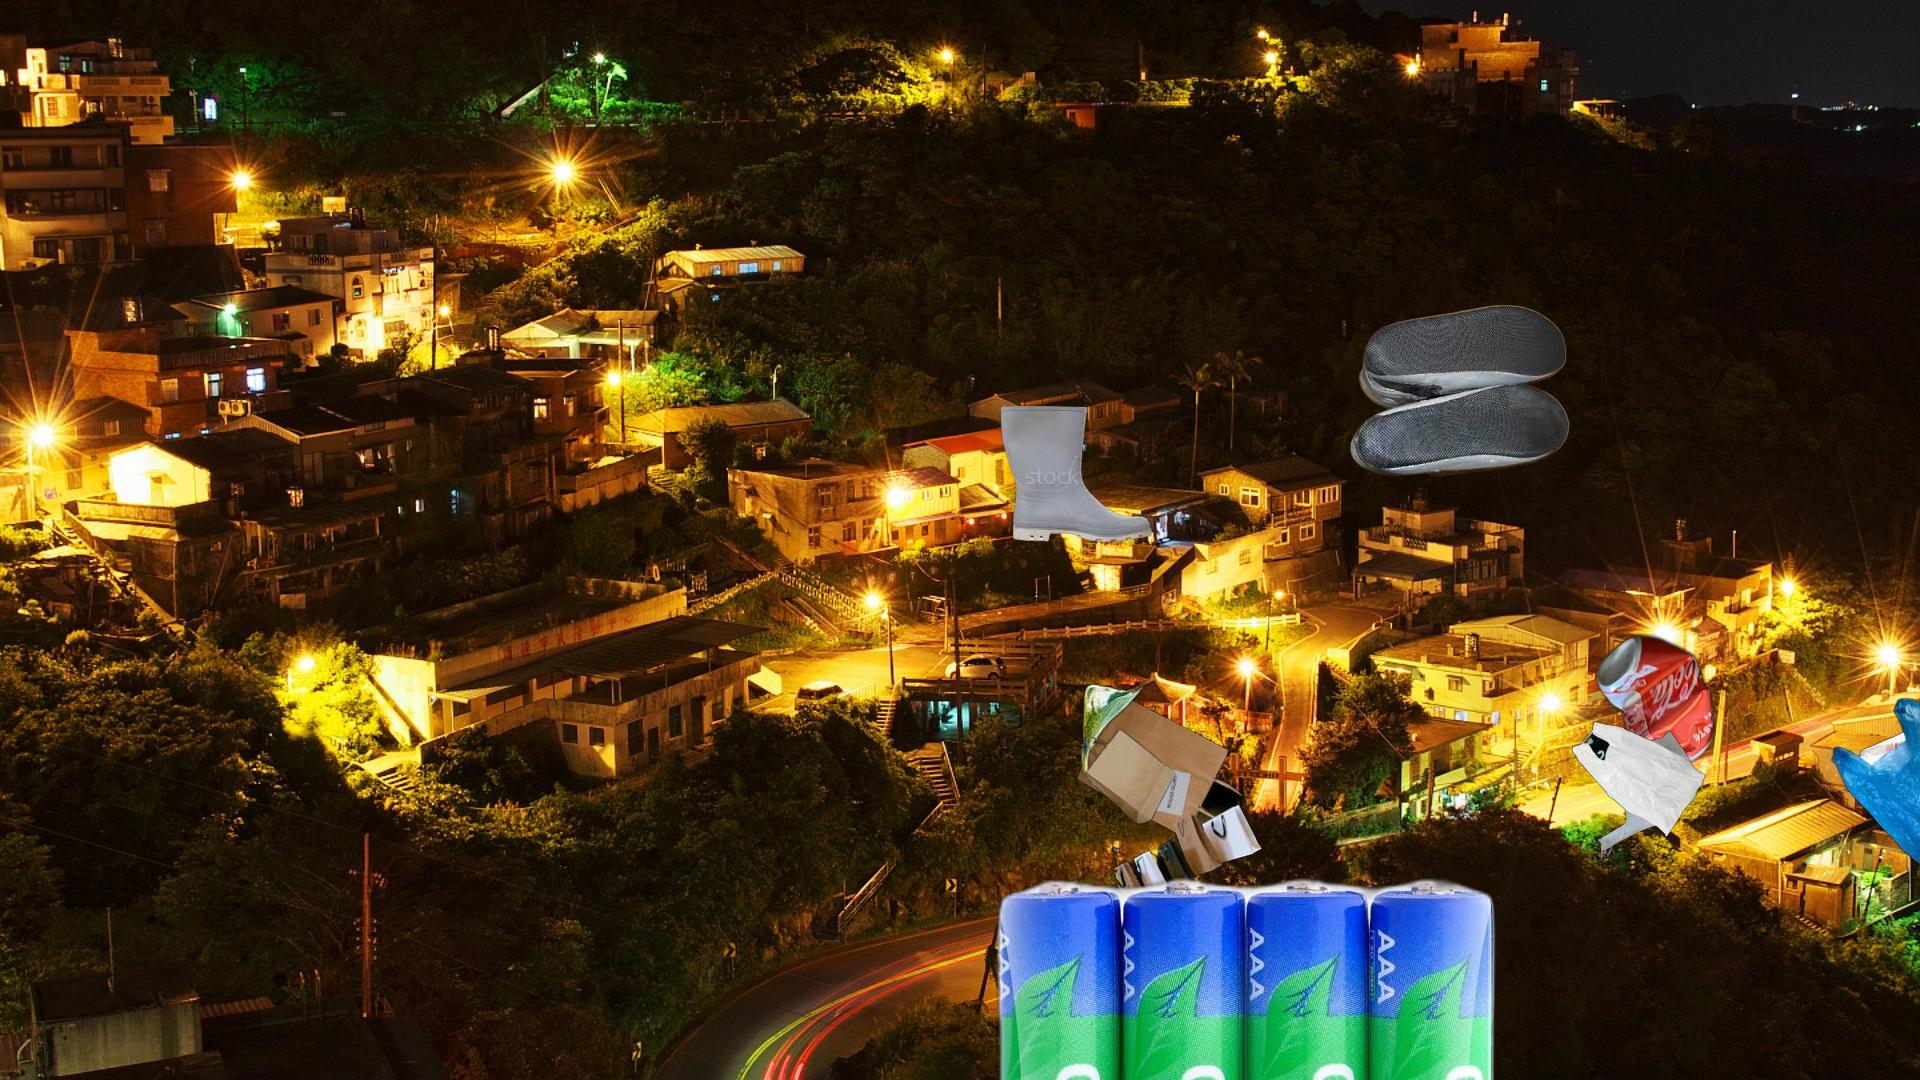battery: (992, 870, 1502, 1080)
metal-cans: (1592, 629, 1720, 770)
paper-bag: (945, 673, 1246, 949), (1075, 691, 1265, 922)
plastic-bag: (1507, 719, 1709, 878), (1828, 698, 1920, 876)
shoes: (1346, 301, 1575, 477), (998, 404, 1155, 549)
